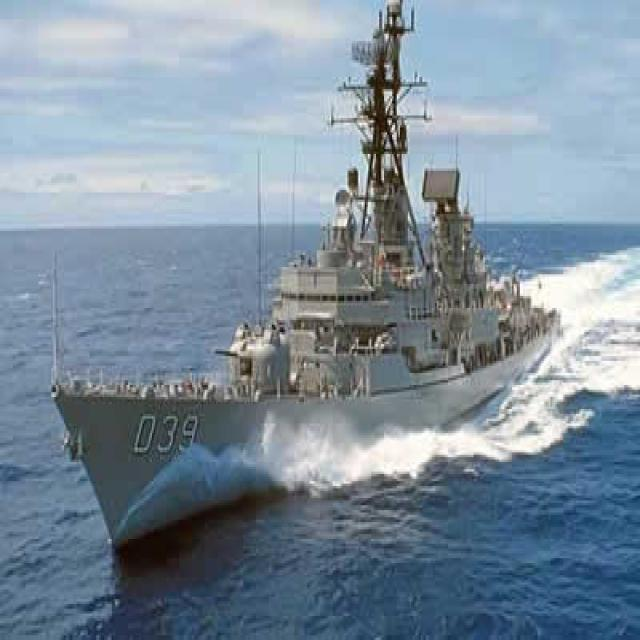navalvessels: (54, 17, 560, 564)
